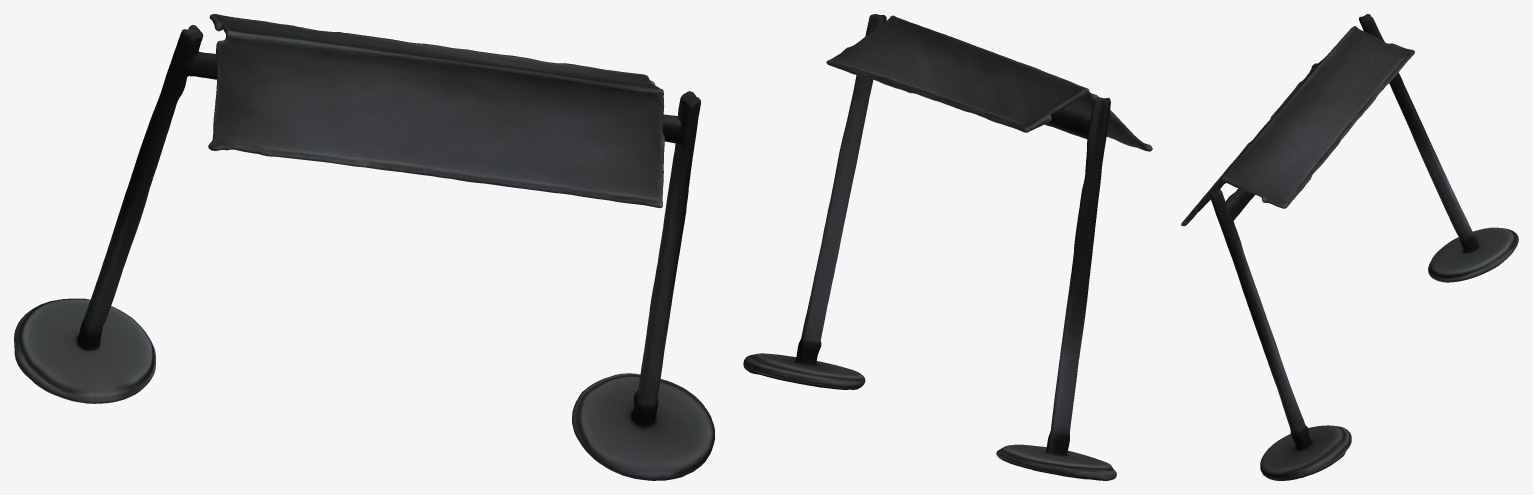
3 renders of one model, left to right at view 1: azimuth 30°, elevation 25°; view 2: azimuth 150°, elevation 25°; view 3: azimuth 270°, elevation 25°, orthographic. The views are drawn at different scales.
Bounding box in the file's own units: 0.9129 × 0.7675 × 0.723.
Materials: 1 (1 with a texture image).
